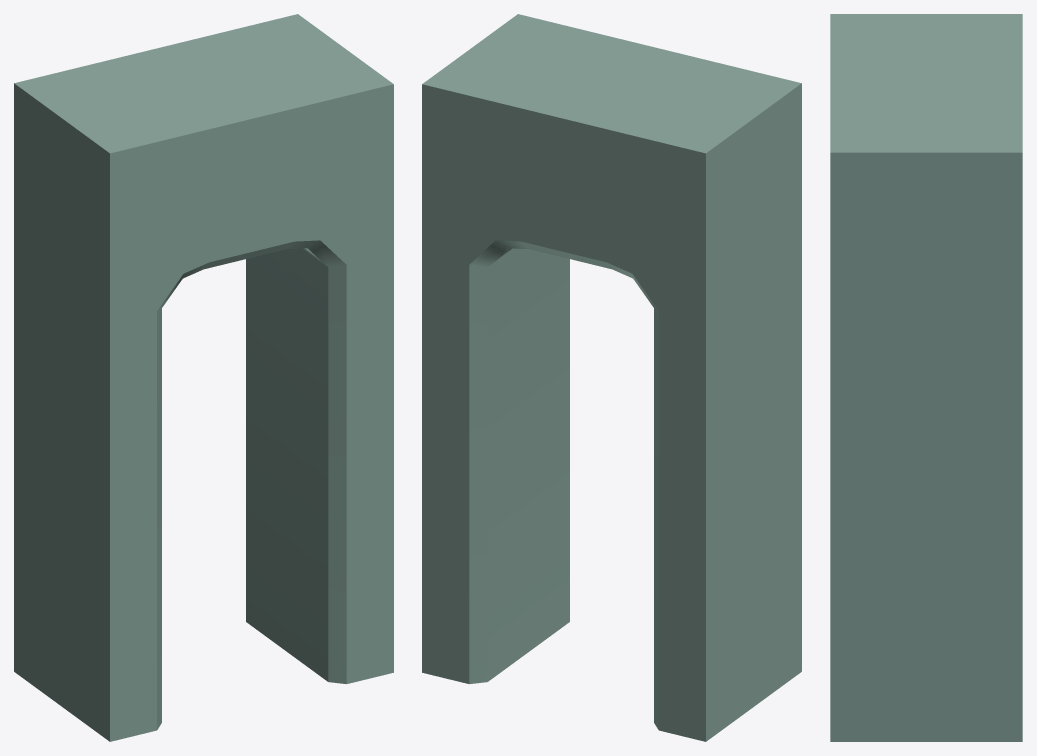
Rendered from tunnel_03.fbx.
3 views of the same model, side by side, from view 1: azimuth 30°, elevation 25°; view 2: azimuth 150°, elevation 25°; view 3: azimuth 270°, elevation 25° (orthographic).
Visible parts, largest first — view 1: tunnel_03; view 2: tunnel_03; view 3: tunnel_03.
Boxes of the visible parts, box(x1,y1,x2,y2) form: tunnel_03: box(14, 14, 393, 741); tunnel_03: box(422, 14, 801, 741); tunnel_03: box(830, 14, 1022, 741).
Size of the model in its own units: 1.71 by 3.38 by 1.
